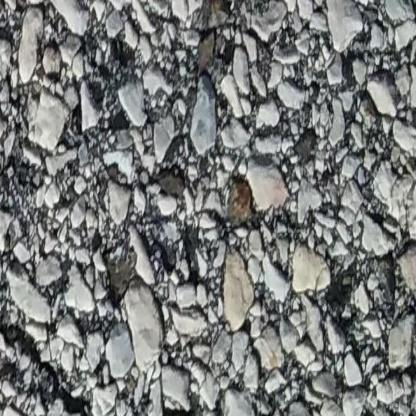Cracks: (0, 318, 108, 416)
